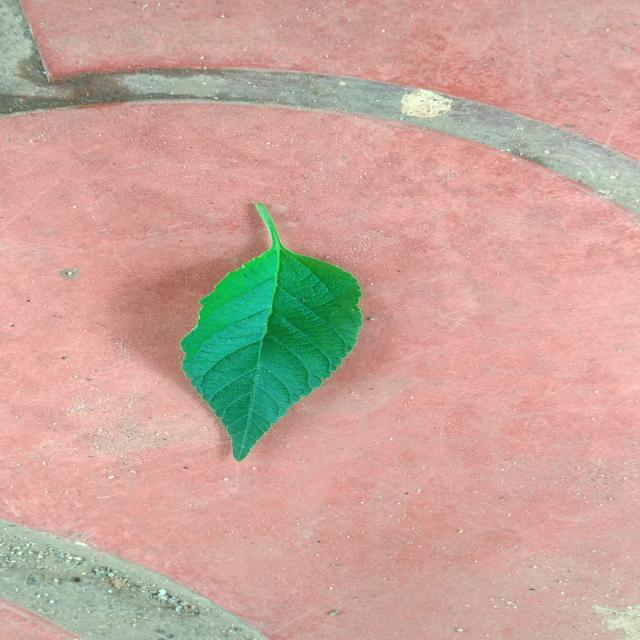Lantana: (182, 204, 362, 461)
